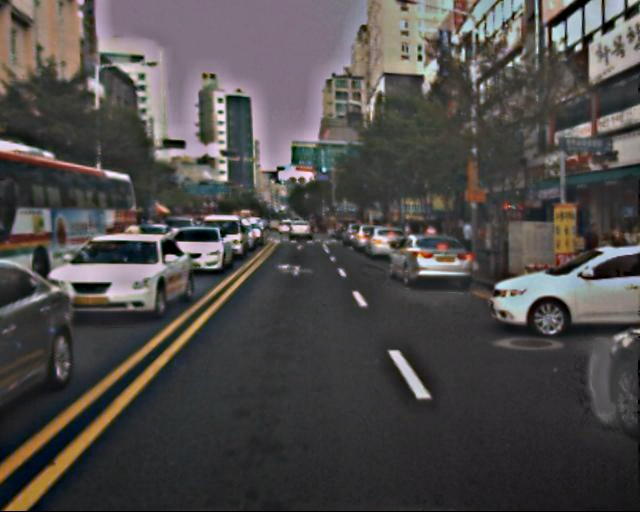person: (580, 223, 605, 284), (456, 214, 478, 270)
